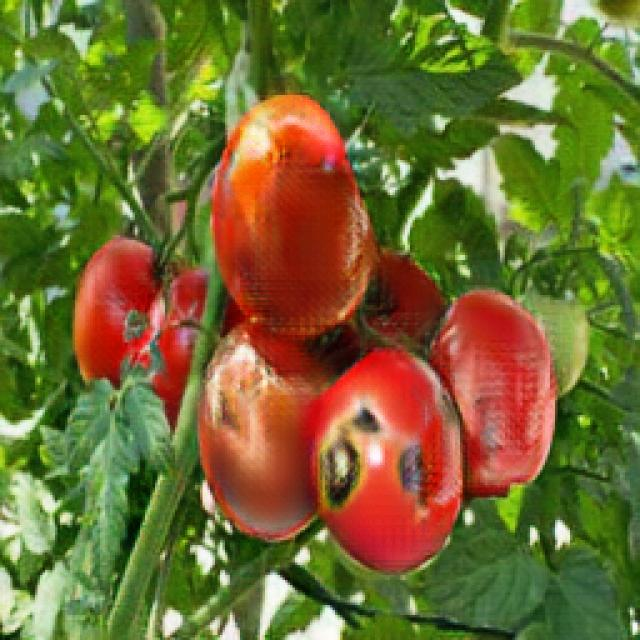overripe tomato: (203, 89, 376, 339), (310, 347, 463, 563), (198, 330, 326, 532), (440, 291, 559, 482)
